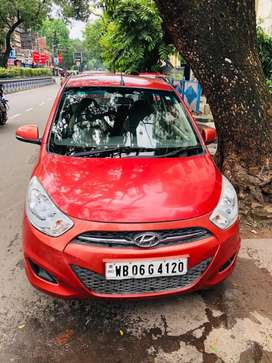WB06G4120: (105, 256, 187, 280)
